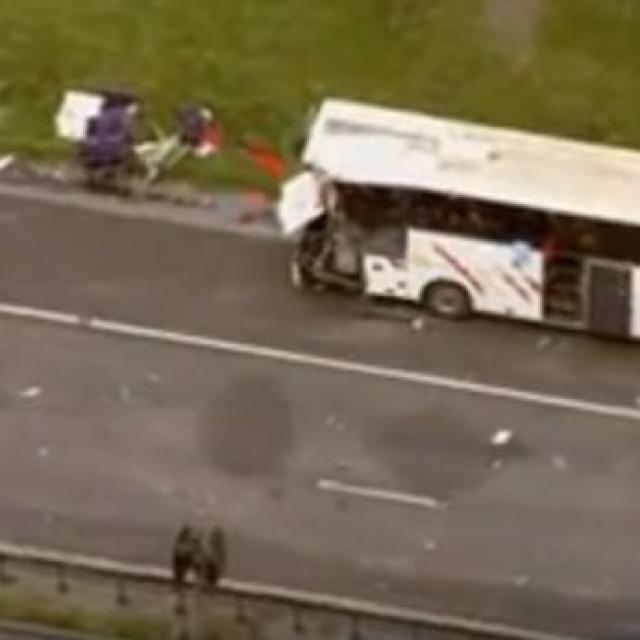traffic_incident: (296, 81, 638, 349), (55, 77, 216, 212)
